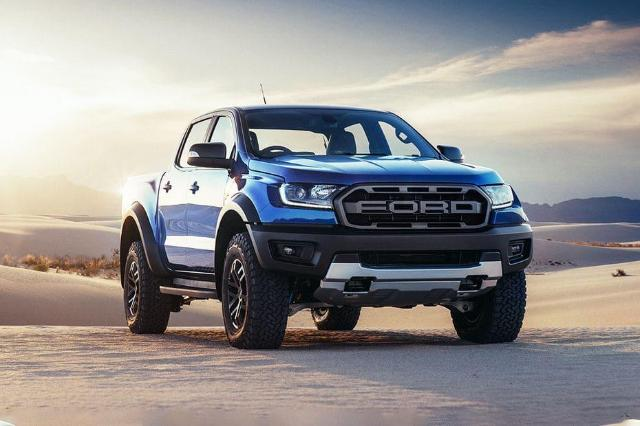ford: (119, 83, 534, 349)
